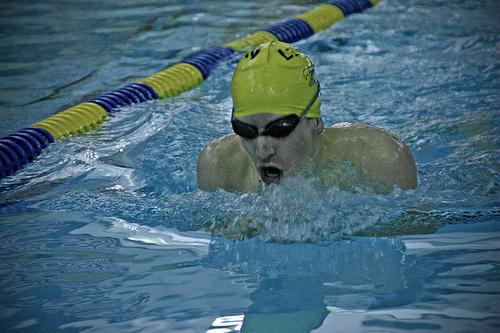swimmer: (195, 39, 421, 203)
